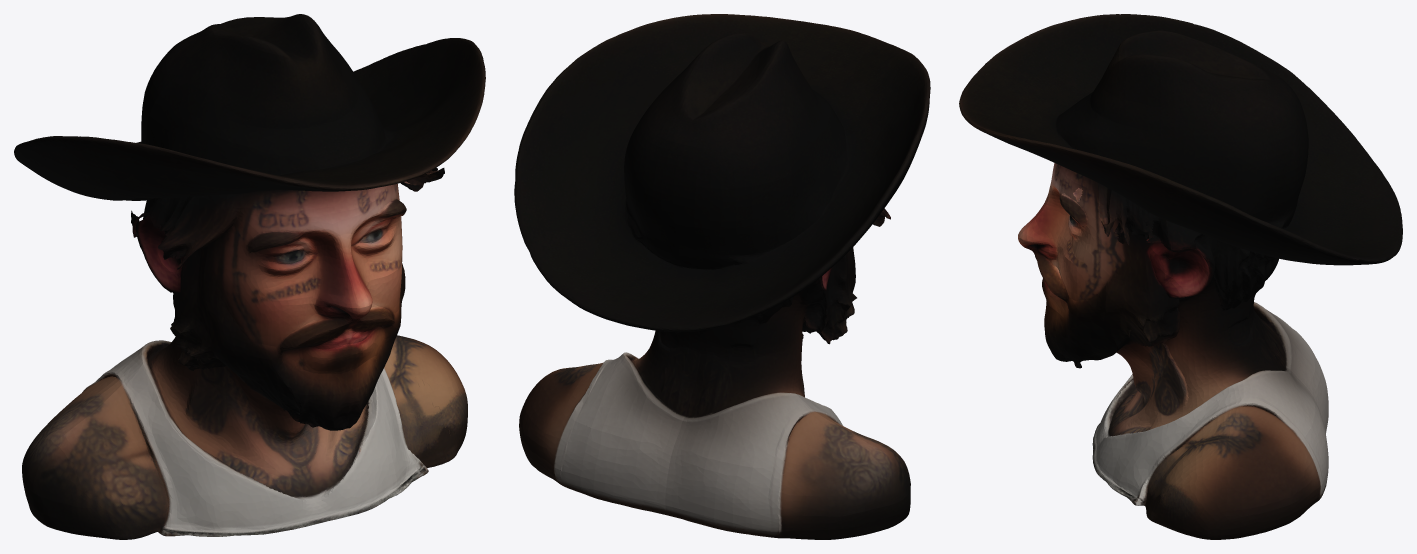
The model's file is performer-head.glb.
The picture shows the model from 3 angles, left to right: view 1: azimuth 30°, elevation 25°; view 2: azimuth 150°, elevation 25°; view 3: azimuth 270°, elevation 25°; orthographic projection. The views are drawn at different scales.
Visible parts, largest first — view 1: world; view 2: world; view 3: world.
Boxes of the visible parts, left/top/right/bottom form: world: left=14, top=14, right=485, bottom=539; world: left=514, top=14, right=930, bottom=539; world: left=959, top=14, right=1402, bottom=539.
Bounding box in the file's own units: 0.9532 × 0.9995 × 0.9842.
Materials: 1 (1 with a texture image).
